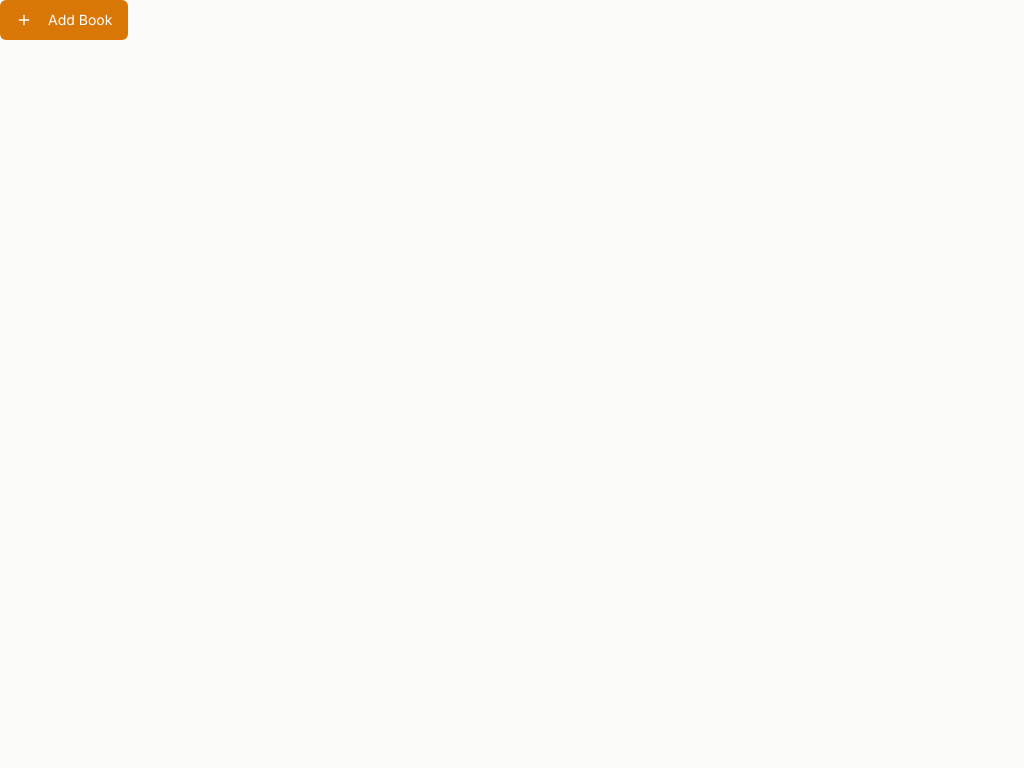
AddBookToCurrentReadsDialog › adds a trimmed book record, invalidates reading progress, and resets the form
Click the button "Add Book" at (64, 20), box 0,0 -> 128,40
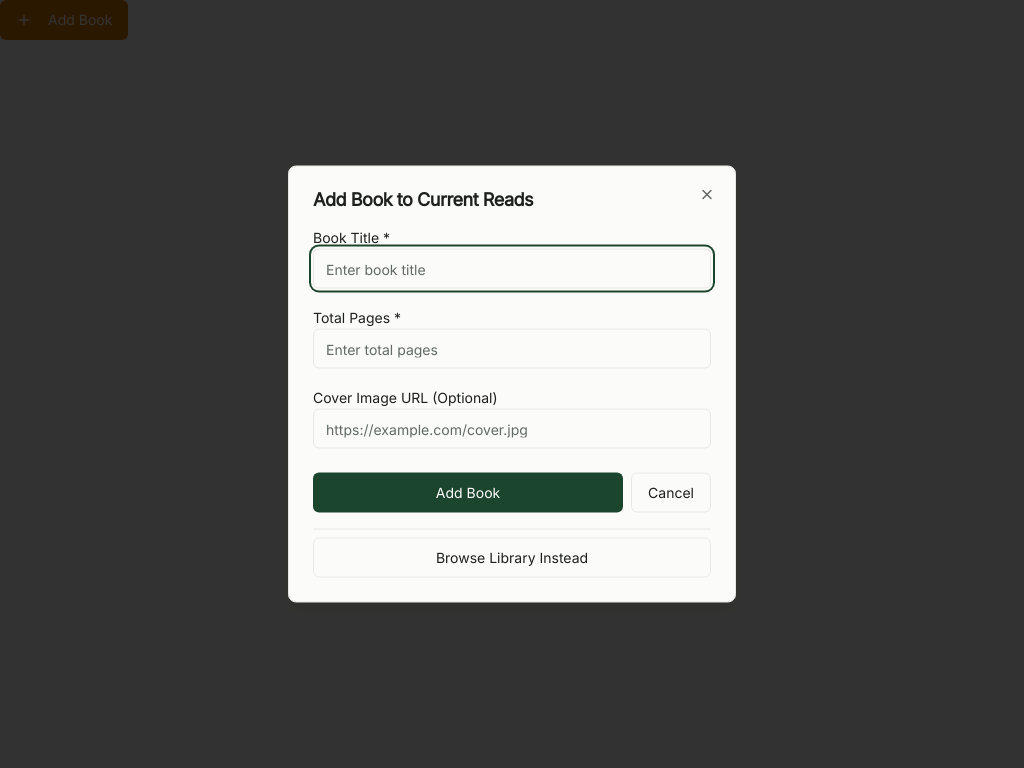
Type "  The Dispossessed  " into the field labelled "Book Title *" at (512, 268), box 313,248 -> 711,288
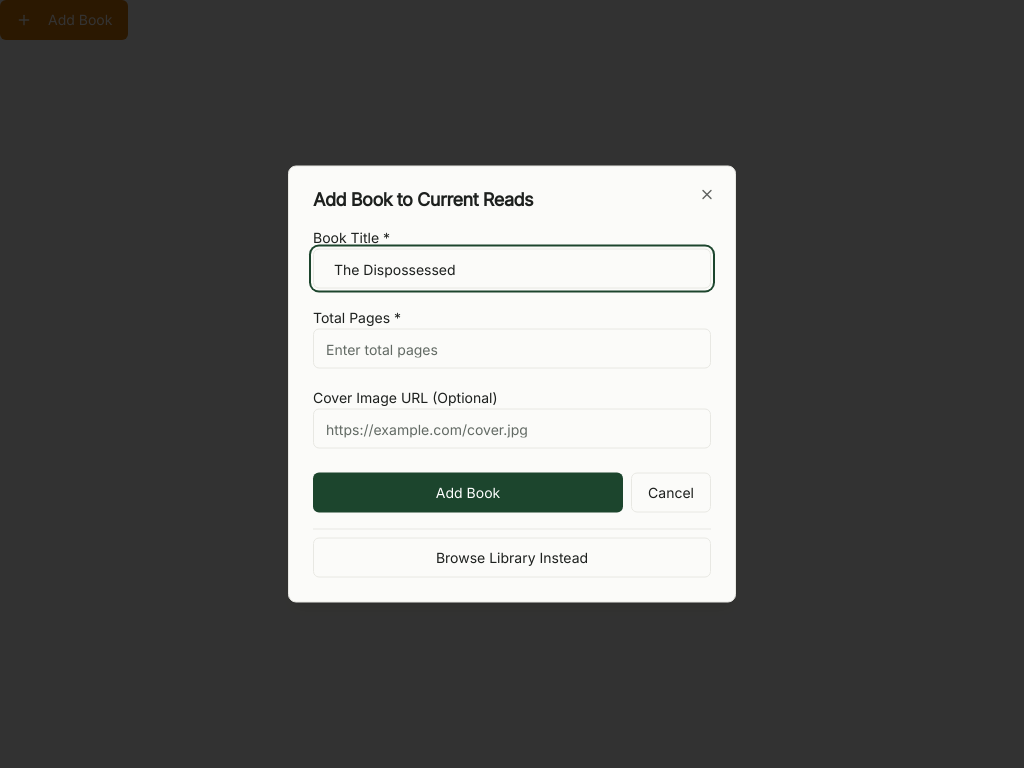
Type "341" into the number field labelled "Total Pages *" at (512, 348), box 313,328 -> 711,368
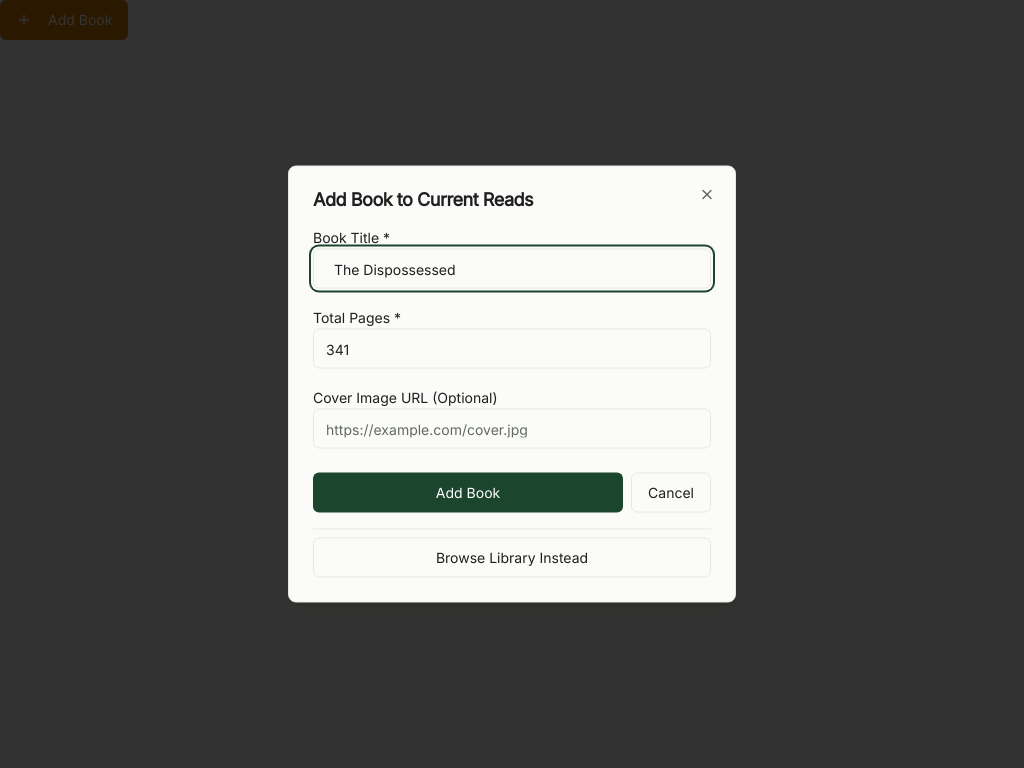
Type " https://example.com/cover.jpg " into the field labelled "Cover Image URL (Optional)" at (512, 428), box 313,408 -> 711,448
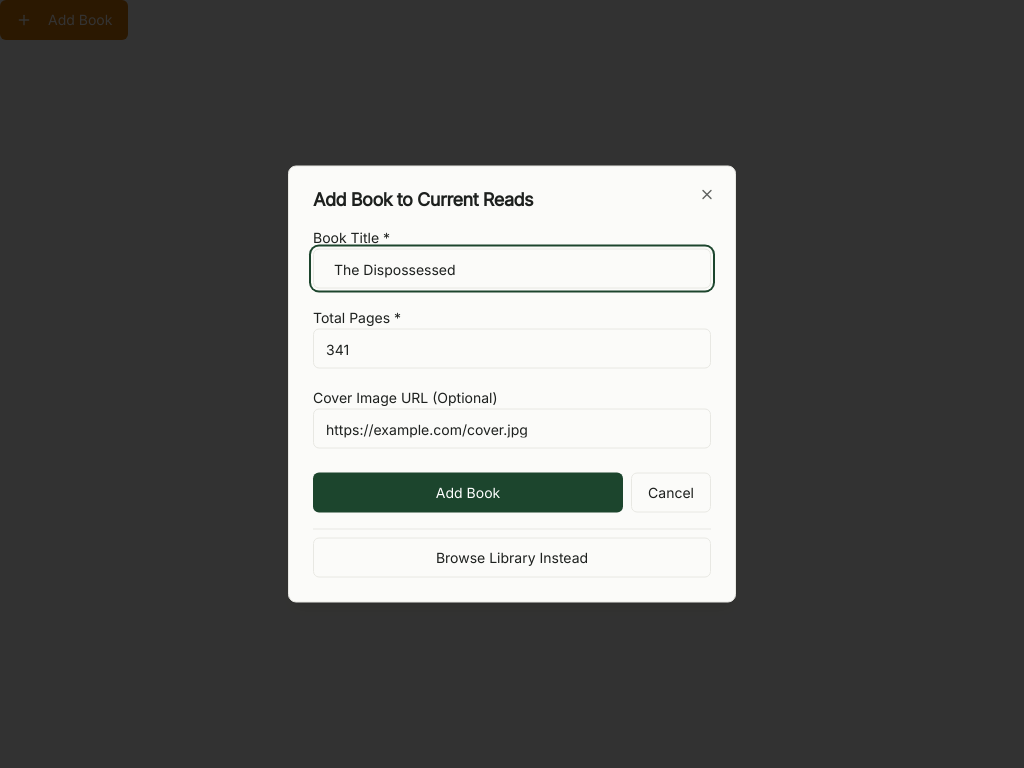
Click the button "Add Book" at (468, 492), box 313,472 -> 623,512
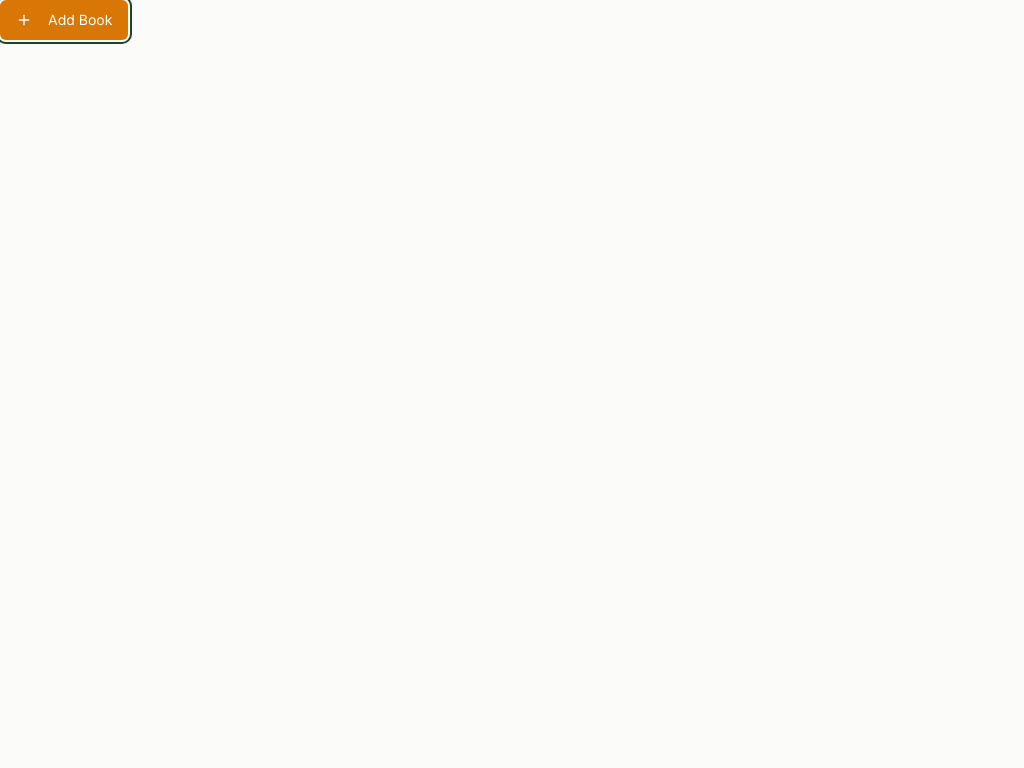
Expected: the heading "Add Book to Current Reads" is gone
